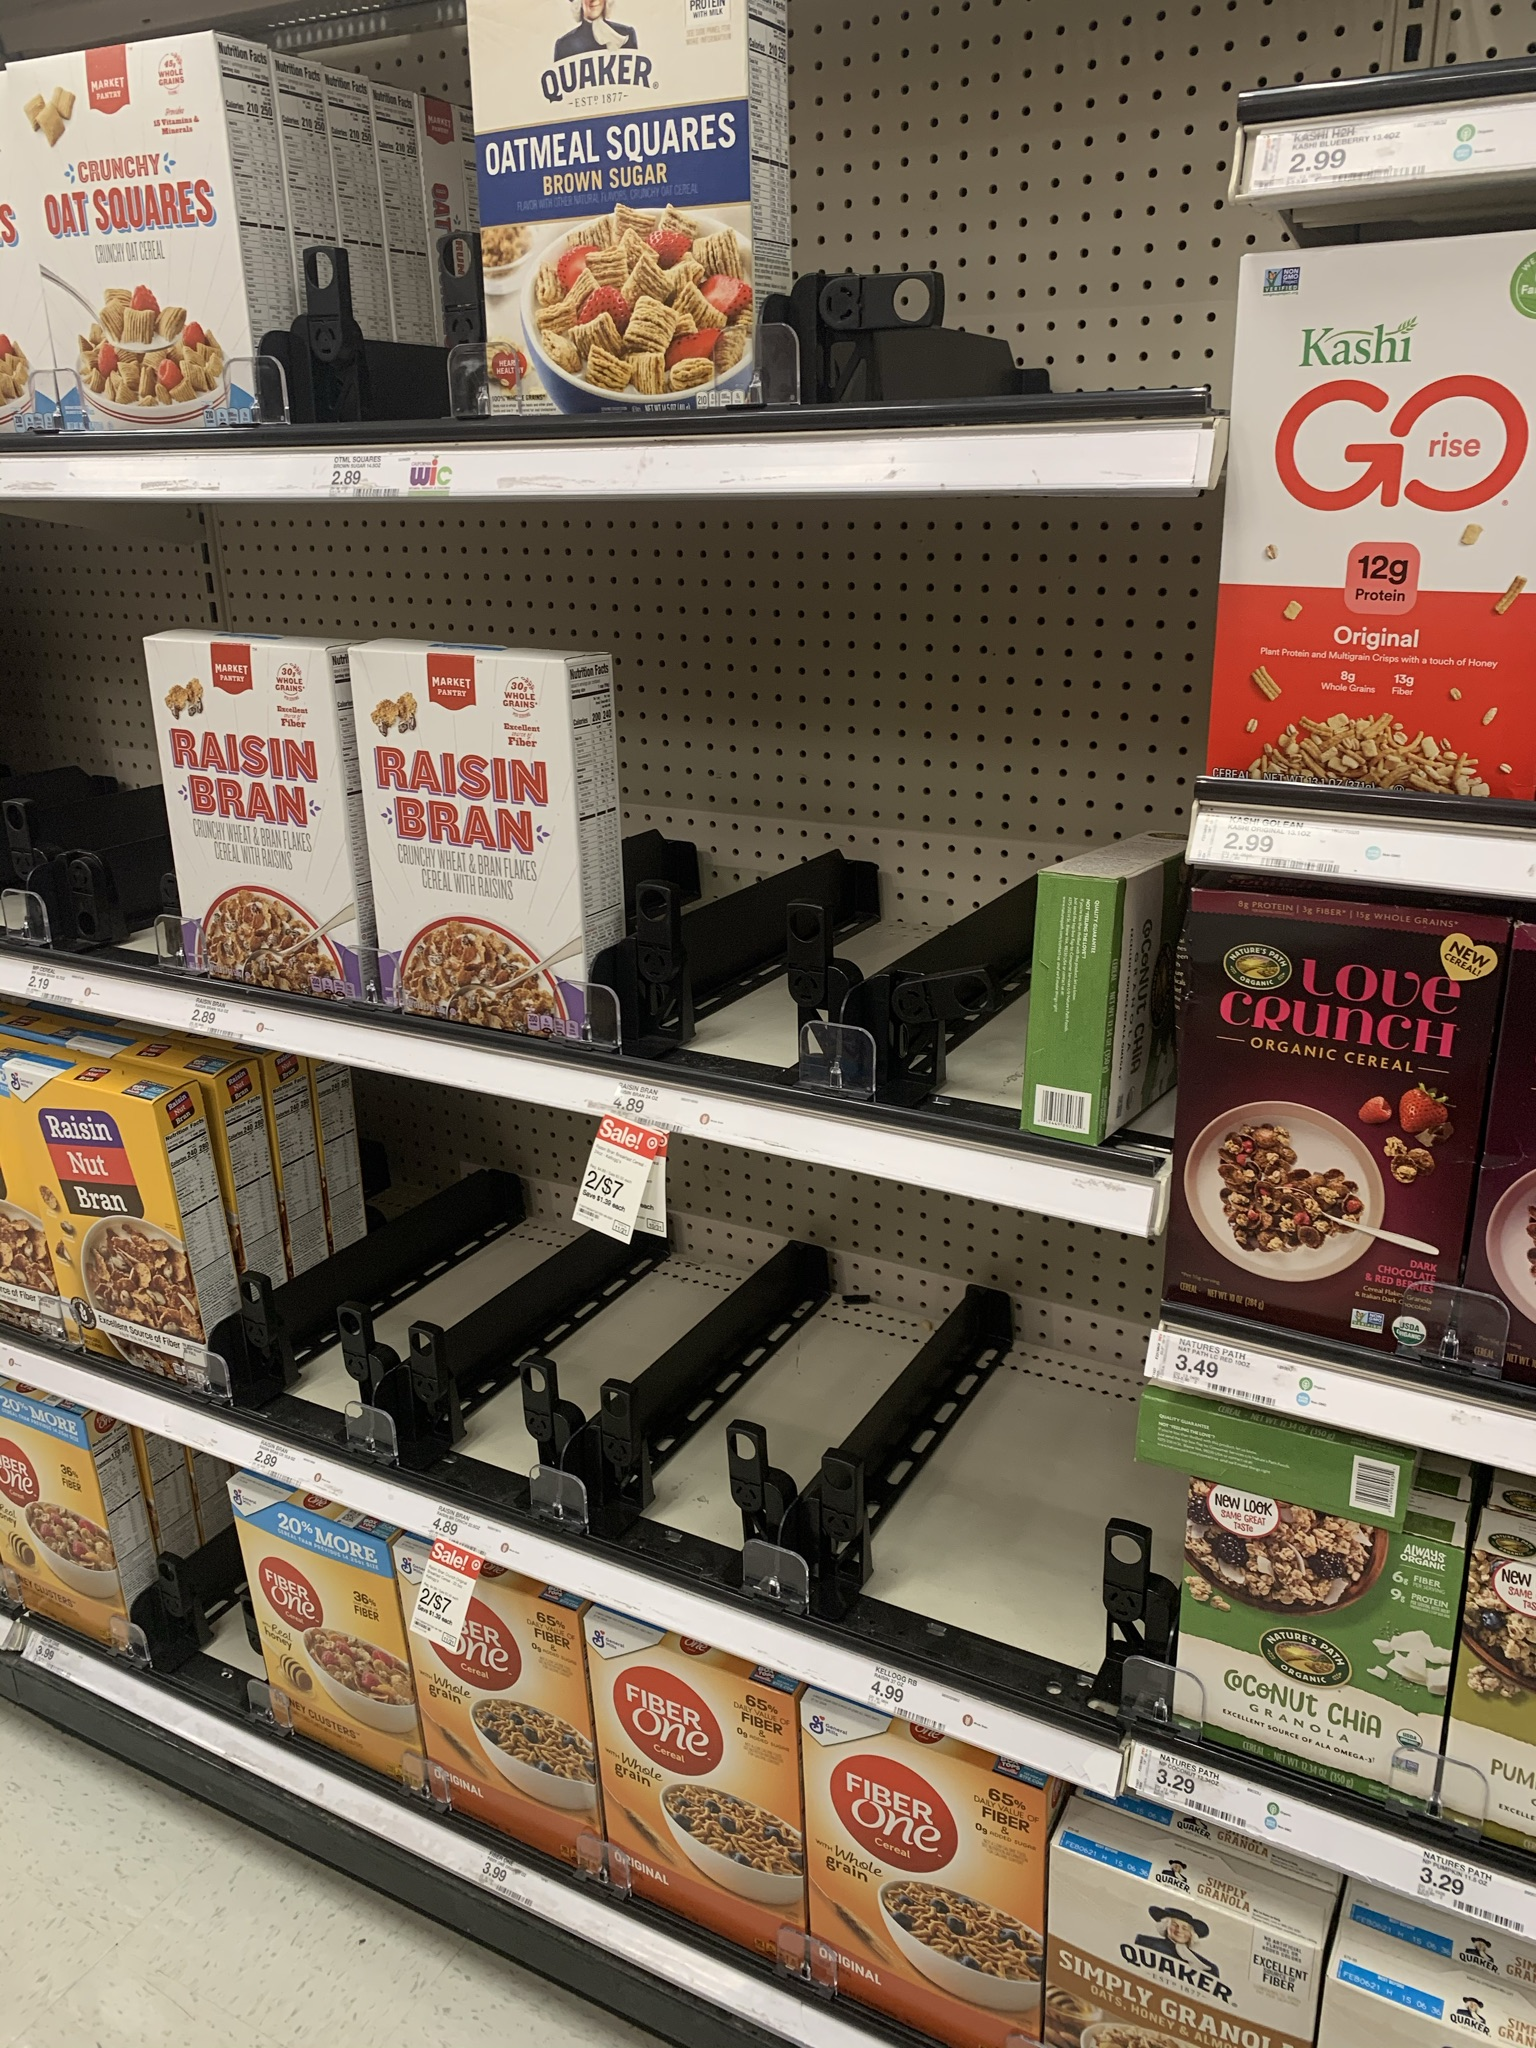cereal: (347, 650, 594, 1030), (31, 26, 231, 455), (145, 645, 357, 1014), (805, 1706, 1037, 2038), (586, 1629, 800, 1967), (402, 1558, 613, 1892), (224, 1495, 410, 1787), (23, 1106, 194, 1364)
